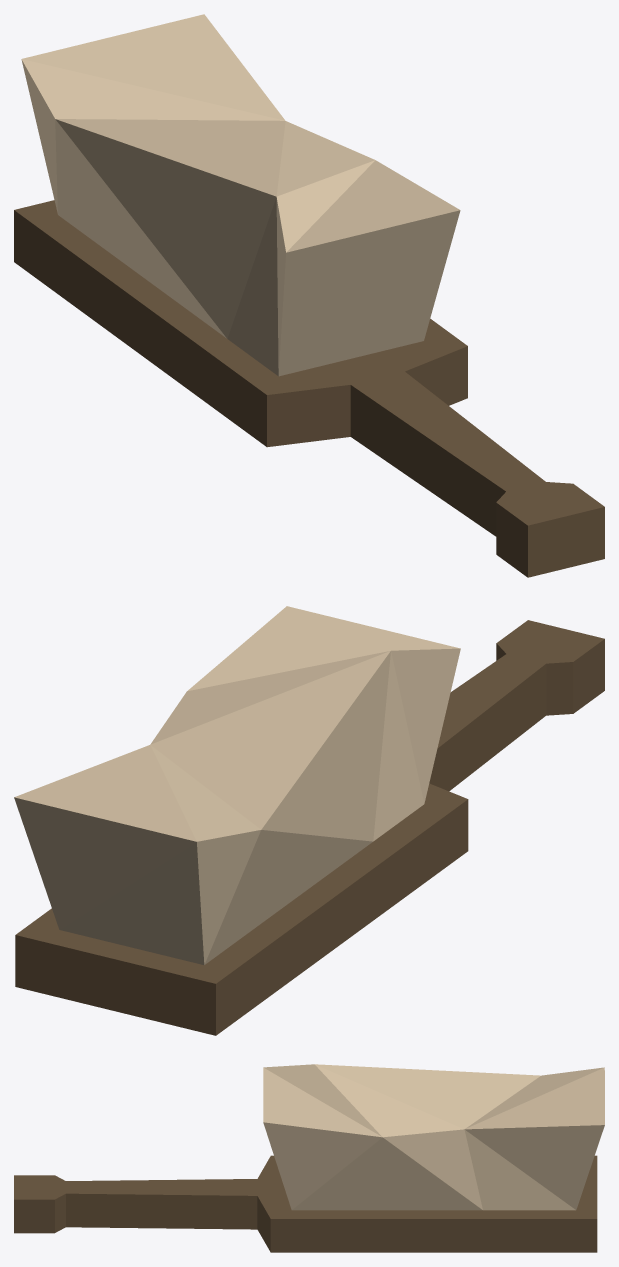
File: SM_Prop_Scrub_Brush_01.glb
The picture shows the model from 3 angles, top to bottom: view 1: azimuth 30°, elevation 25°; view 2: azimuth 150°, elevation 25°; view 3: azimuth 270°, elevation 25°; orthographic projection. The views are drawn at different scales.
Visible parts, largest first — view 1: SM_Prop_Scrub_Brush_01_part00; view 2: SM_Prop_Scrub_Brush_01_part00; view 3: SM_Prop_Scrub_Brush_01_part00.
Part boxes in pixels (x1,y1,x2,y2): SM_Prop_Scrub_Brush_01_part00: (14, 14, 604, 577); SM_Prop_Scrub_Brush_01_part00: (14, 606, 604, 1035); SM_Prop_Scrub_Brush_01_part00: (14, 1064, 604, 1252).
Size of the model in its own units: 0.1756 by 0.1777 by 0.6857.
Materials: 1 (1 with a texture image).
